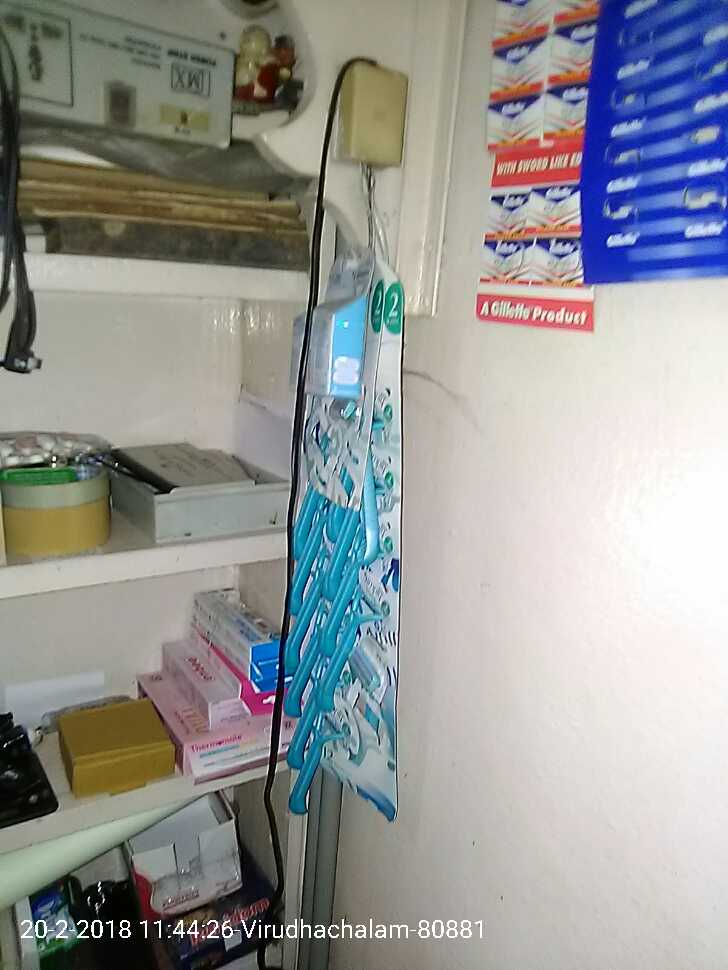reject: (358, 351, 508, 549)
